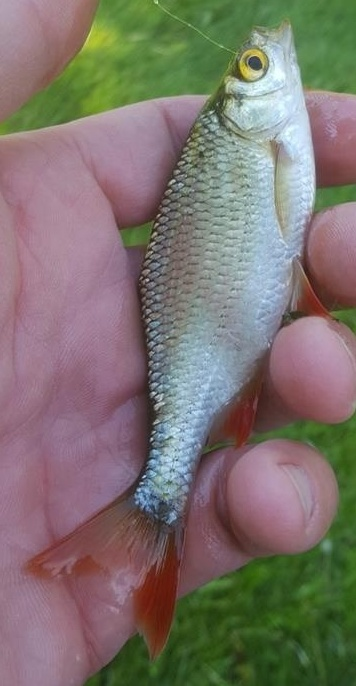Scardinius erythrophthalmus: (20, 20, 336, 666)
